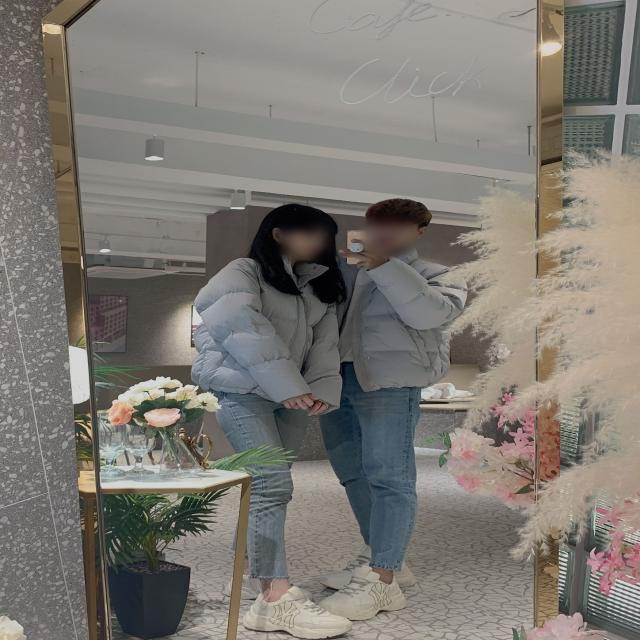denimpants: (317, 366, 420, 579), (214, 378, 296, 582)
padding: (193, 257, 343, 409), (348, 256, 461, 388)
